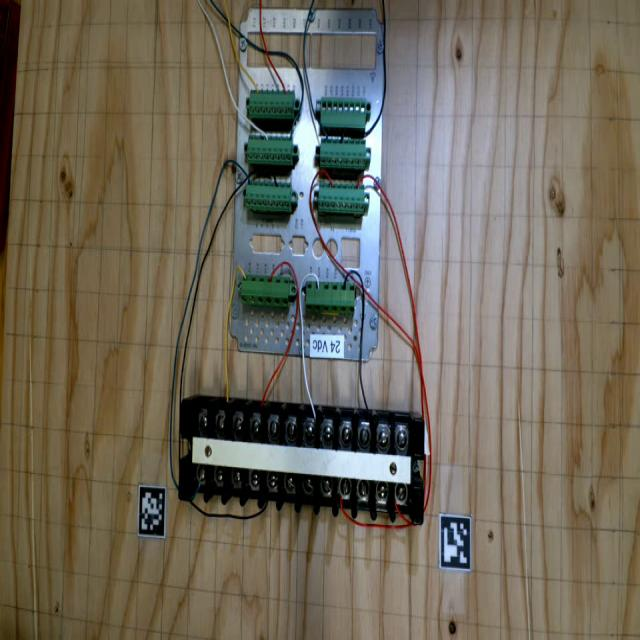Flathead_Block: (172, 395, 433, 524)
Terminal_1: (305, 280, 356, 315), (240, 274, 290, 308)
Terminal_2: (318, 182, 366, 214), (245, 179, 291, 211), (319, 139, 366, 169), (246, 135, 292, 165), (249, 89, 294, 119)
